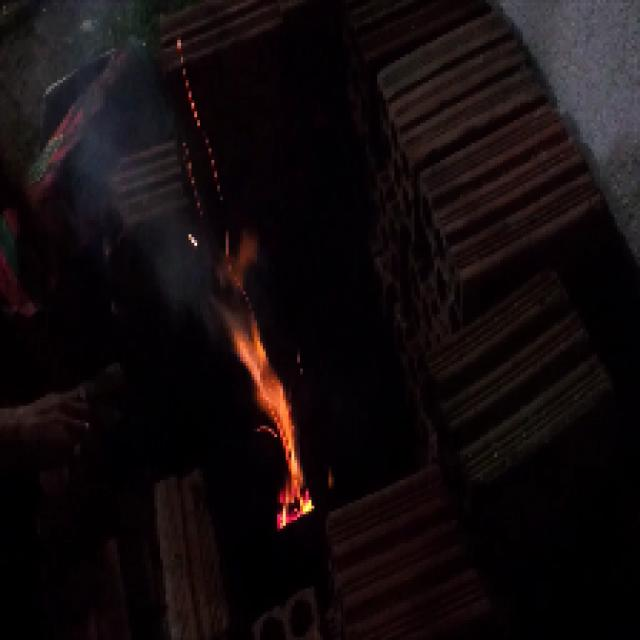fire: (236, 314, 314, 520)
